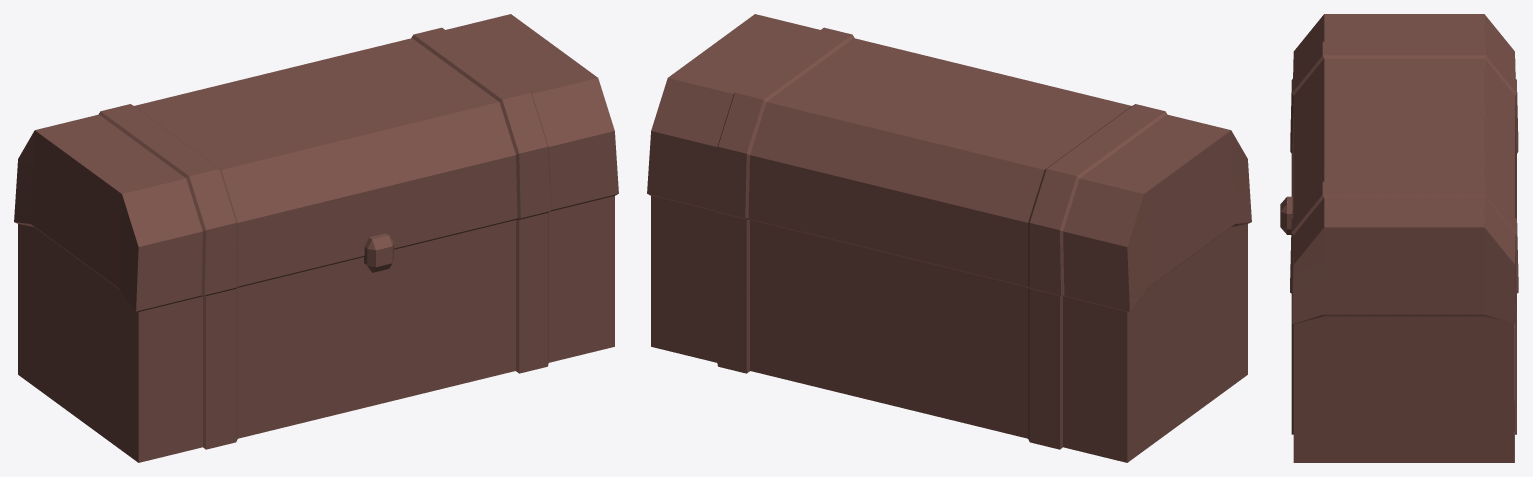
File: Baul2.obj
3 renders of one model, left to right at view 1: azimuth 30°, elevation 25°; view 2: azimuth 150°, elevation 25°; view 3: azimuth 270°, elevation 25°, orthographic. The views are drawn at different scales.
Visible parts, largest first — view 1: Baúl.001_Cube.001_None.006_None.006; view 2: Baúl.001_Cube.001_None.006_None.006; view 3: Baúl.001_Cube.001_None.006_None.006.
Part boxes in pixels (x1,y1,x2,y2): Baúl.001_Cube.001_None.006_None.006: (14, 14, 618, 462); Baúl.001_Cube.001_None.006_None.006: (647, 14, 1251, 462); Baúl.001_Cube.001_None.006_None.006: (1280, 14, 1518, 462).
Bounding box in the file's own units: 1.53 × 0.7913 × 0.7111.
1 material, 1 textured.
